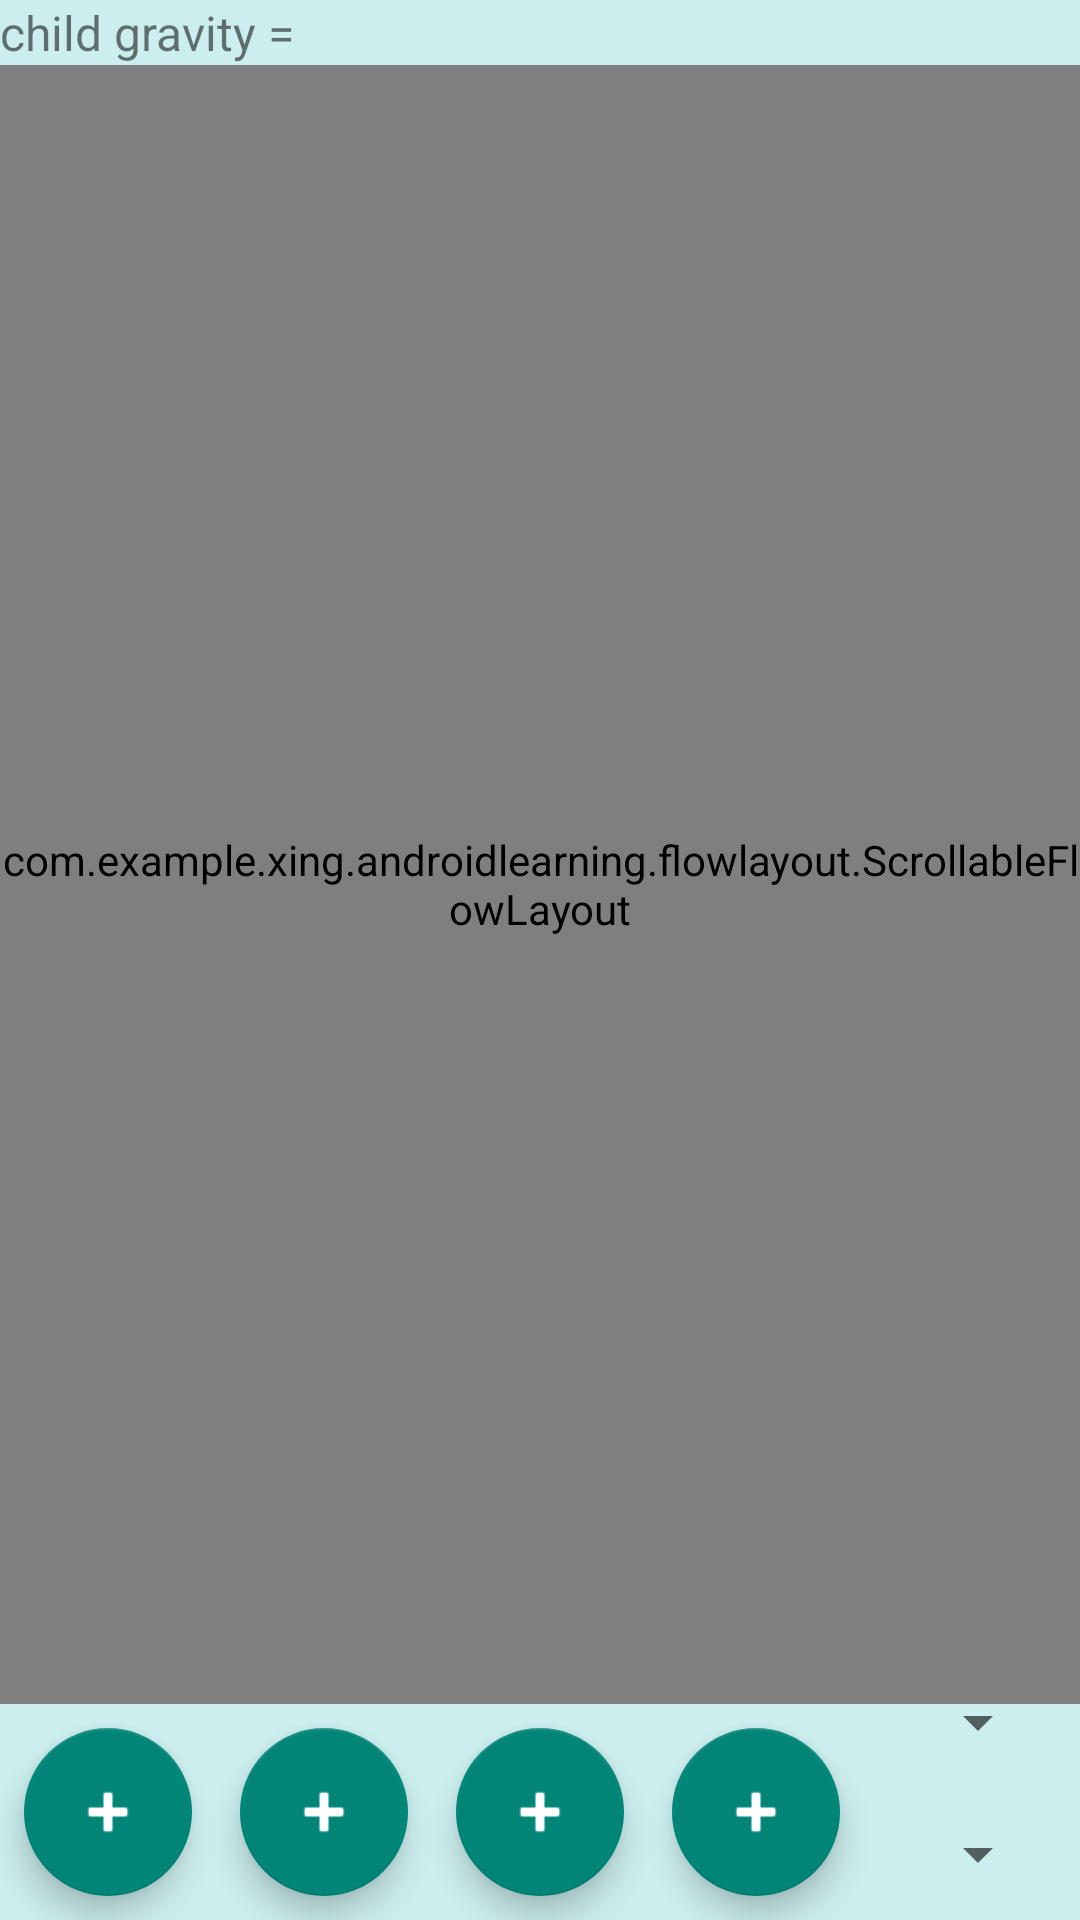

Named icons in this screenshot (1080 x 1920) and their bounding boxes, (x1, y1, x2, y2):
add: (24, 1728, 192, 1896), (240, 1728, 408, 1896), (456, 1728, 624, 1896), (672, 1728, 840, 1896)
